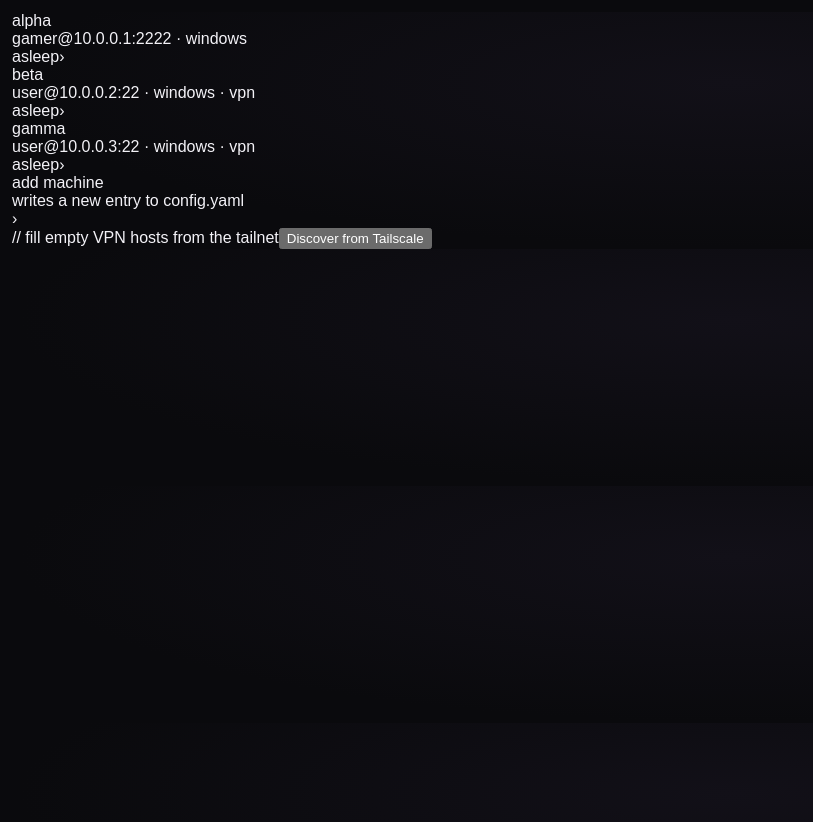
MachineEditor — Discover from Tailscale (D3 slice 3) › PUTs the FULL host body (fields preserved) ONLY for empty-current hosts
This screenshot has width=813, height=822.
Click the button "Discover from Tailscale". click: (355, 238)
box: top-left (279, 228), bottom-right (432, 249)
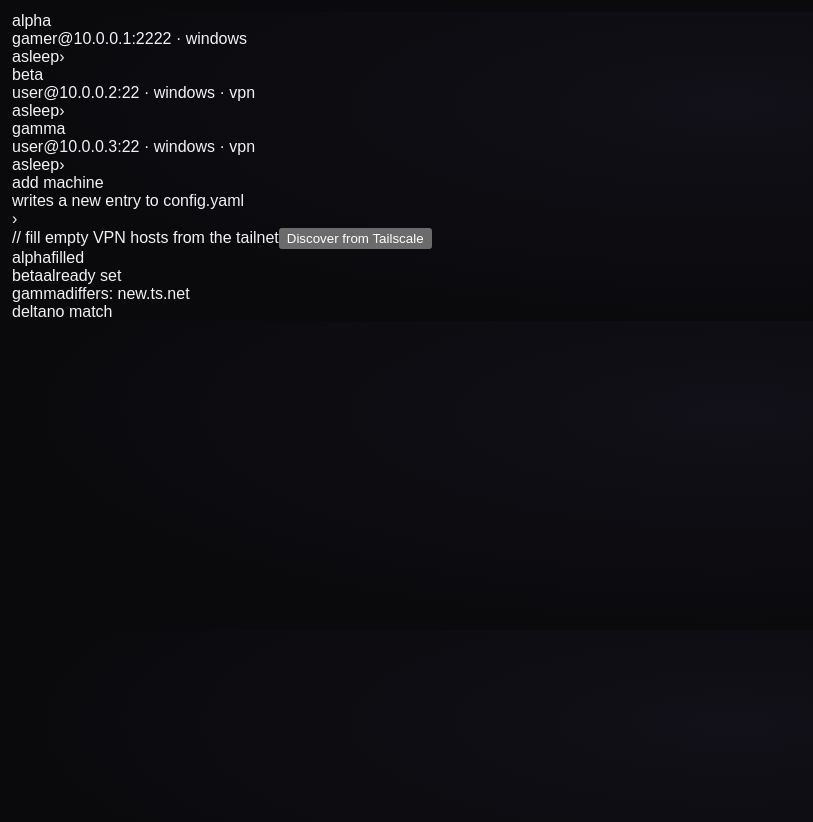
Expected: the text "filled" is shown, top-left (51, 249), bottom-right (84, 266)
Expected: the text "already set" is shown, top-left (43, 267), bottom-right (121, 284)
Expected: the text "differs: new.ts.net" is shown, top-left (65, 285), bottom-right (190, 302)
